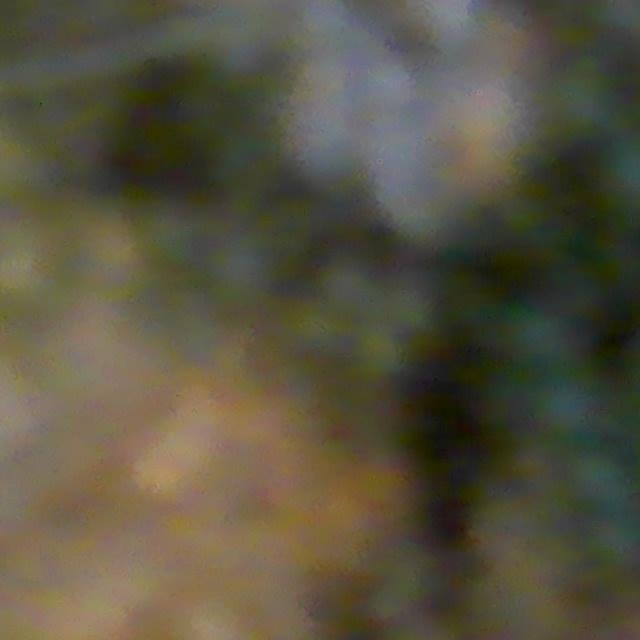SeaGrape: (369, 159, 450, 260), (289, 92, 354, 195), (534, 372, 605, 440), (353, 60, 411, 128)
